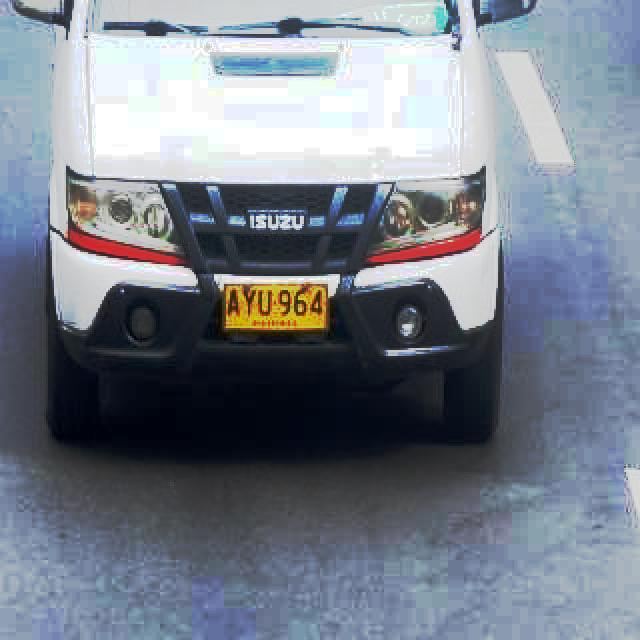license_plate: (224, 284, 330, 331)
